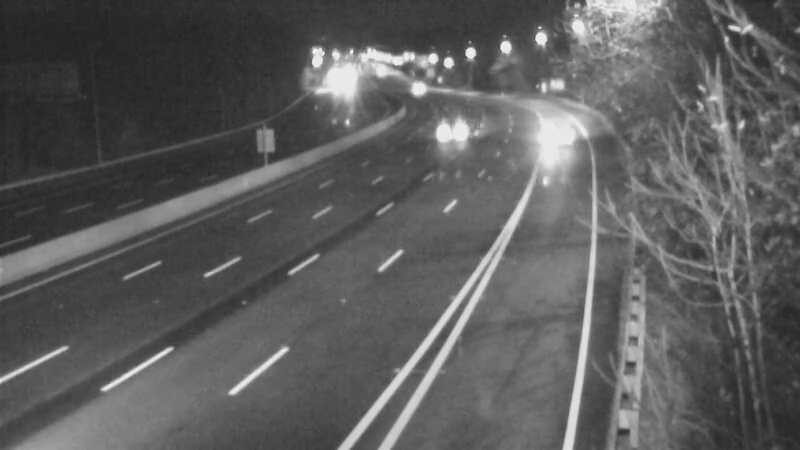vehicle: (393, 60, 443, 110), (526, 109, 576, 159), (431, 104, 481, 154)
